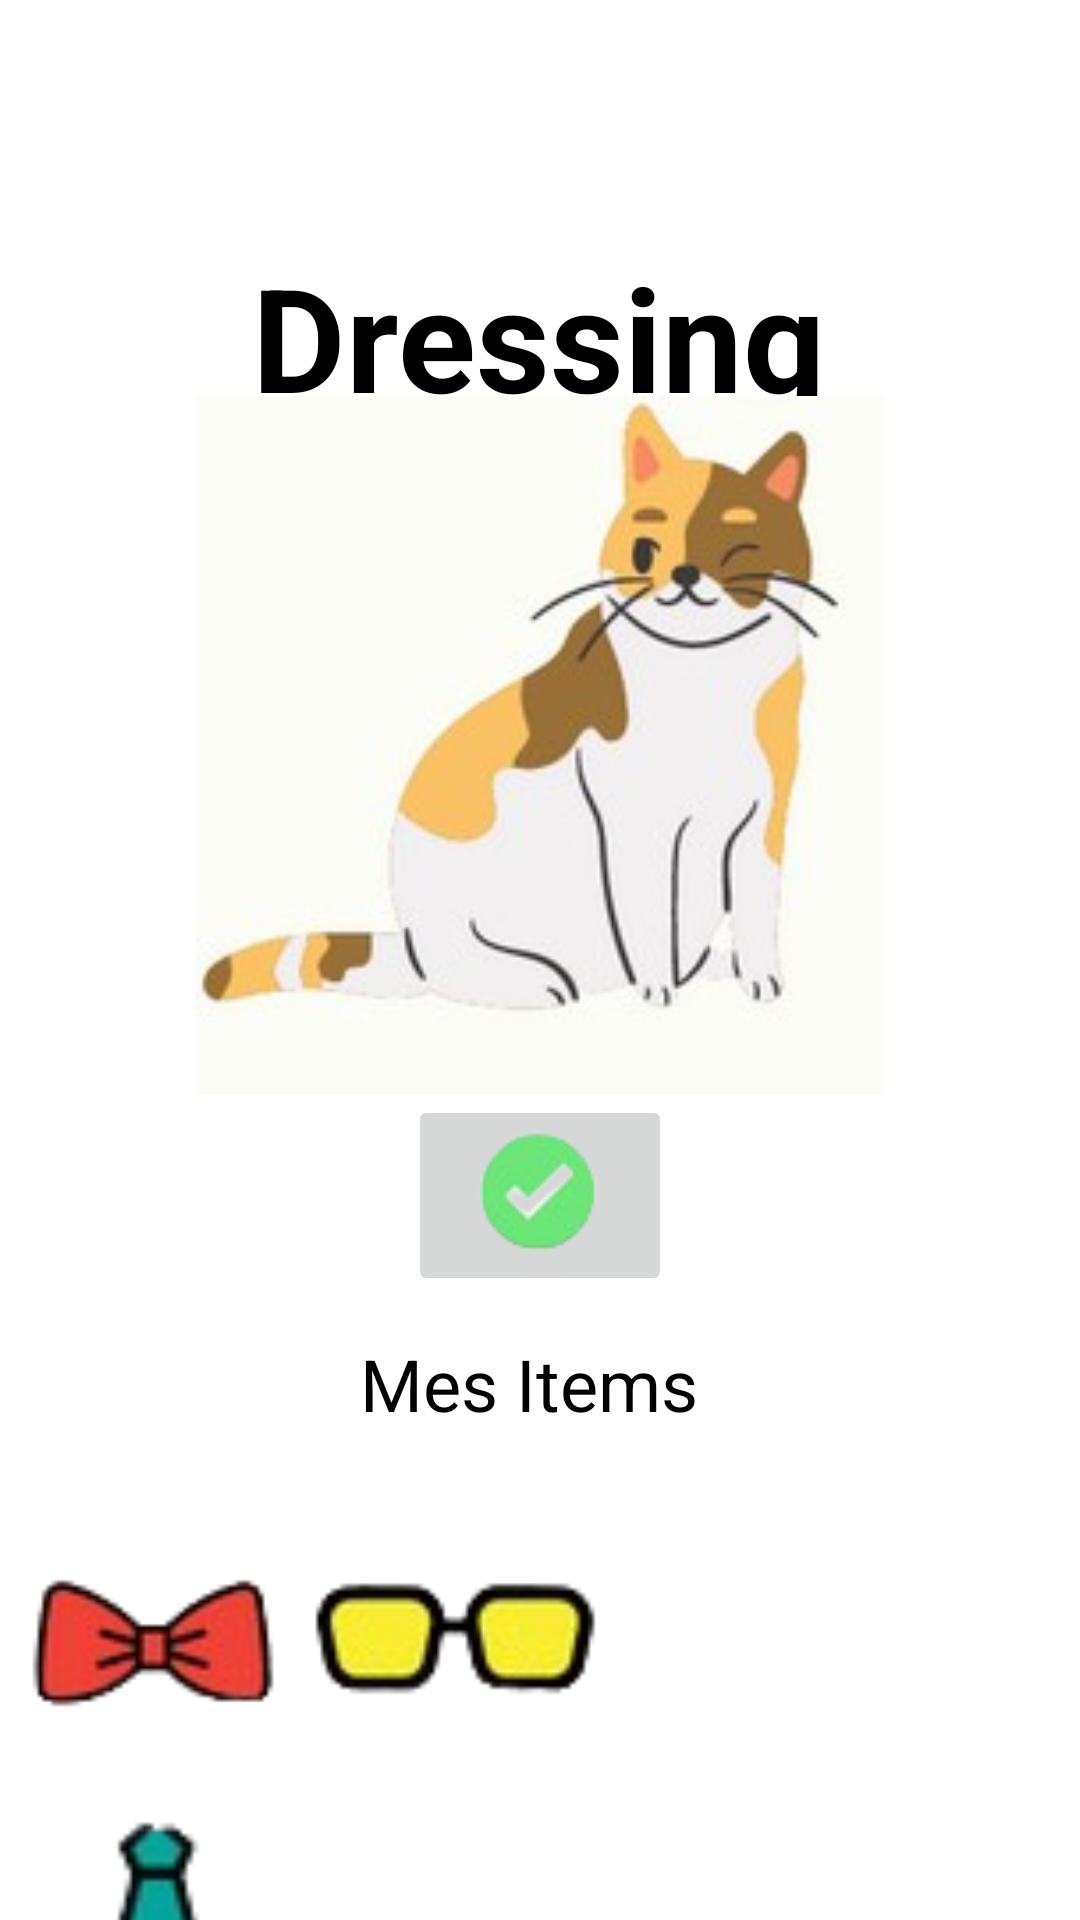

Named icons in this screenshot (1080 x 1920) and their bounding boxes, (x1, y1, x2, y2):
bow tie: (33, 1580, 274, 1706)
check: (420, 1113, 660, 1278)
glasses: (315, 1583, 595, 1694)
